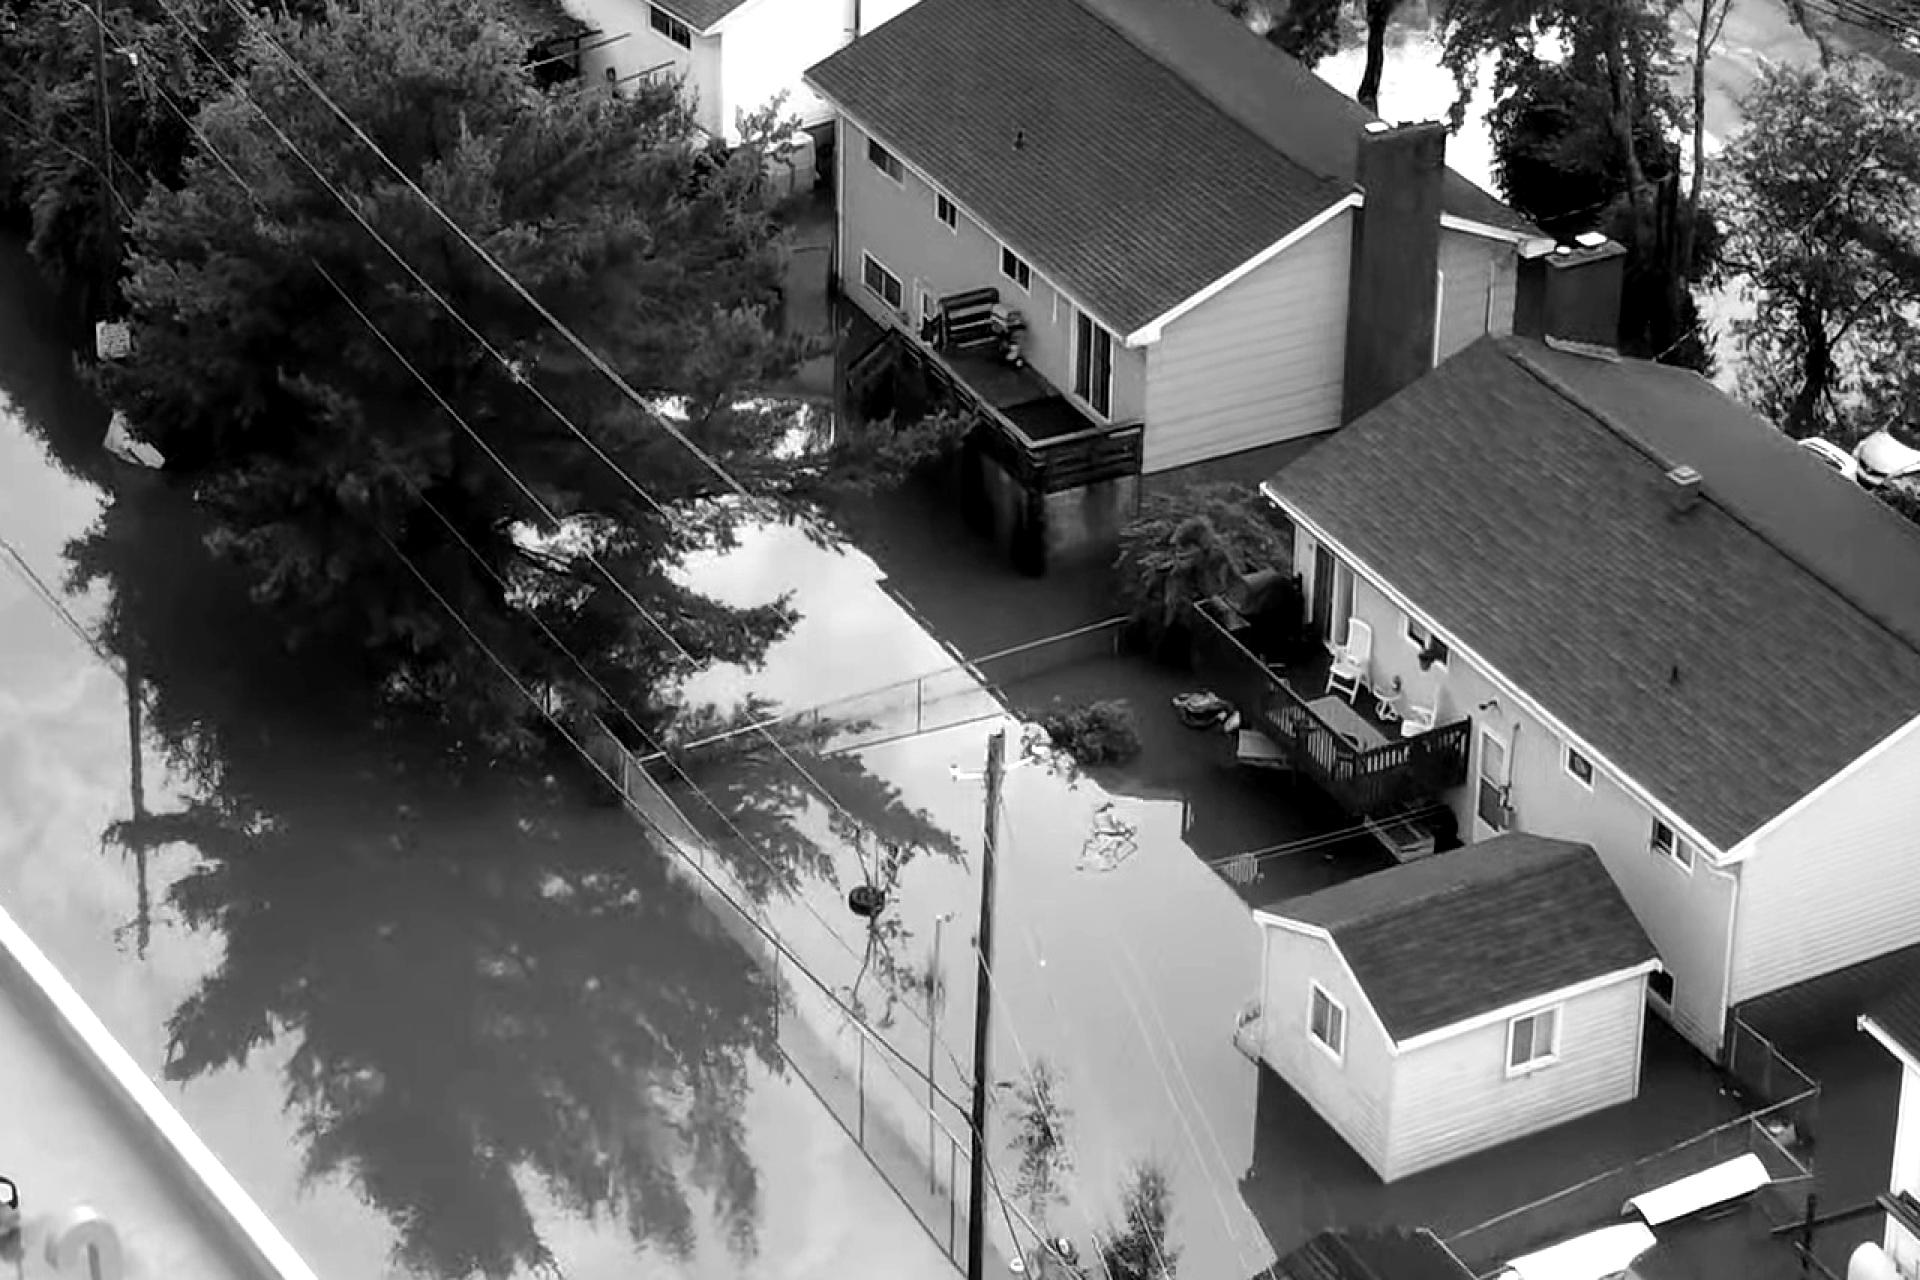House: (1257, 321, 1920, 1031), (799, 0, 1550, 460), (379, 0, 1064, 144), (1840, 801, 1920, 1280)
